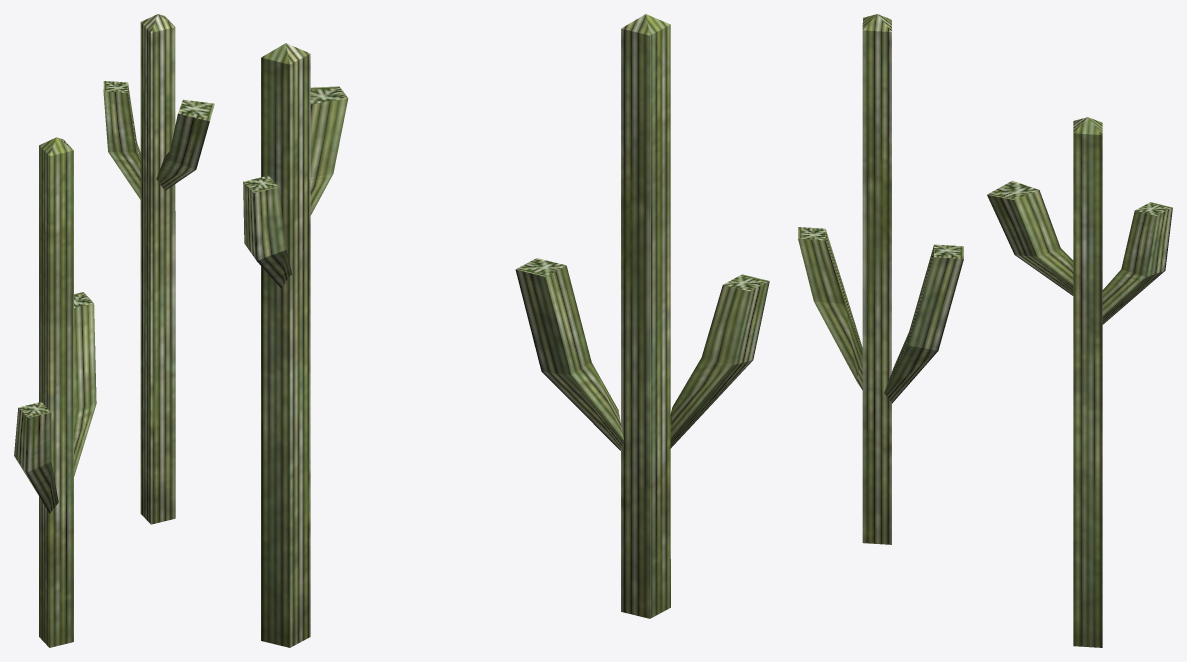
The model's file is Cactus_B.fbx.
3 views of the same model, side by side, from view 1: azimuth 30°, elevation 25°; view 2: azimuth 150°, elevation 25°; view 3: azimuth 270°, elevation 25° (orthographic). The views are drawn at different scales.
Parts seen in each view (by area): view 1: Cactus45; view 2: Cactus45; view 3: Cactus45.
Boxes of the visible parts, box(x1,y1,x2,y2) form: Cactus45: box(14, 14, 214, 647); Cactus45: box(243, 14, 769, 647); Cactus45: box(798, 14, 1172, 647).
Bounding box in the file's own units: 0.5732 × 0.9471 × 0.6145.
